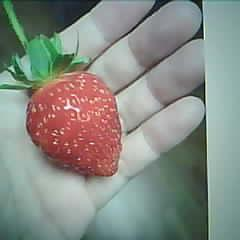straw-ripe: (26, 71, 122, 175)
